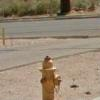Hydrant: (32, 45, 73, 100)
